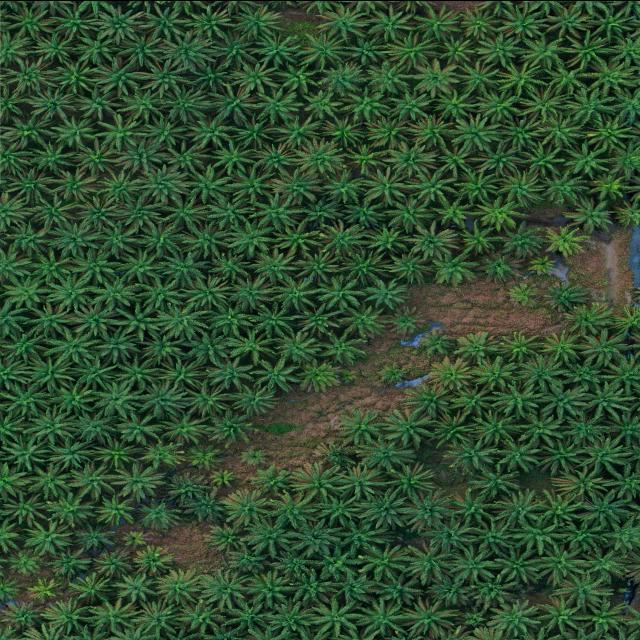Kelapa_Sawit: (290, 461, 346, 500), (163, 33, 216, 69), (562, 32, 614, 68), (384, 410, 436, 446), (467, 464, 522, 498), (200, 570, 250, 607), (360, 491, 410, 527), (403, 600, 452, 636), (115, 464, 165, 499), (410, 61, 460, 95), (294, 140, 344, 174), (159, 87, 211, 119), (586, 6, 632, 42), (47, 329, 97, 362), (136, 276, 184, 310), (158, 305, 206, 339), (24, 520, 72, 554), (248, 570, 293, 606), (30, 408, 76, 443), (92, 278, 142, 310), (564, 302, 614, 334), (360, 440, 413, 470), (569, 88, 613, 124), (116, 304, 160, 340), (230, 276, 274, 312), (227, 332, 276, 364), (554, 468, 610, 496), (50, 222, 96, 256), (92, 328, 138, 362), (135, 602, 181, 636), (222, 489, 268, 523), (207, 196, 255, 228), (292, 520, 340, 552), (522, 34, 567, 68), (452, 116, 497, 150), (272, 276, 317, 310), (247, 518, 292, 552), (296, 360, 342, 393), (368, 60, 410, 96), (6, 436, 48, 472), (341, 90, 388, 122), (46, 602, 93, 634), (140, 62, 190, 92), (492, 601, 542, 631), (447, 438, 497, 468), (322, 222, 366, 256), (275, 222, 319, 256), (165, 472, 209, 506), (357, 600, 402, 633), (72, 465, 112, 502), (407, 544, 448, 580), (498, 64, 544, 96), (206, 304, 252, 336), (313, 546, 359, 578), (495, 550, 541, 582), (584, 492, 630, 524), (4, 492, 46, 527), (183, 333, 230, 364), (256, 89, 300, 122), (28, 465, 72, 498), (388, 36, 436, 66), (544, 7, 592, 37), (343, 250, 388, 282), (48, 277, 96, 307), (74, 304, 119, 336), (274, 332, 322, 362), (48, 496, 96, 526), (176, 602, 224, 632), (562, 576, 610, 606), (338, 406, 379, 441), (590, 61, 632, 95), (524, 88, 566, 122), (412, 224, 454, 258), (432, 413, 474, 447), (452, 384, 494, 418), (184, 276, 230, 307), (362, 278, 408, 309), (387, 465, 433, 496), (212, 142, 256, 174), (368, 171, 412, 203), (256, 196, 300, 228), (141, 166, 185, 198), (27, 306, 71, 338), (251, 304, 295, 336), (318, 277, 362, 309), (141, 384, 185, 416), (342, 466, 386, 498), (322, 62, 364, 95), (582, 439, 624, 472), (274, 172, 320, 202), (233, 384, 279, 414), (73, 412, 119, 442), (136, 498, 182, 528), (540, 600, 586, 630), (496, 384, 542, 414), (225, 600, 268, 632), (316, 494, 359, 526), (568, 201, 612, 232), (458, 62, 498, 96), (270, 604, 310, 638), (540, 548, 580, 582), (388, 144, 433, 174), (416, 7, 458, 39), (117, 142, 165, 170), (159, 570, 201, 602), (91, 602, 139, 630), (207, 522, 249, 554), (268, 496, 316, 524), (206, 359, 252, 388), (374, 575, 420, 604), (497, 492, 540, 523), (604, 464, 640, 501), (188, 8, 232, 38), (53, 118, 97, 148), (77, 198, 121, 228), (10, 170, 54, 200), (30, 358, 74, 388), (141, 332, 185, 362), (297, 304, 341, 334), (322, 332, 366, 362), (362, 546, 406, 576), (582, 601, 626, 631), (428, 577, 472, 607), (540, 386, 584, 416), (499, 8, 546, 36), (253, 360, 300, 388), (302, 34, 343, 66), (1, 332, 46, 361), (478, 89, 520, 120), (54, 169, 96, 200), (228, 226, 276, 253), (406, 387, 454, 414), (233, 62, 276, 92), (233, 120, 276, 150), (388, 200, 431, 230), (161, 252, 207, 280), (544, 282, 590, 310), (184, 384, 230, 412), (514, 522, 560, 550), (314, 602, 354, 634), (582, 550, 622, 582), (185, 171, 229, 200), (6, 386, 50, 415), (470, 358, 514, 387), (584, 332, 625, 363), (237, 7, 279, 37), (478, 35, 520, 65), (278, 62, 320, 92), (74, 144, 119, 172), (190, 118, 232, 148), (566, 148, 608, 178), (412, 172, 454, 202), (434, 253, 476, 283), (164, 198, 206, 228), (117, 252, 159, 282), (52, 438, 94, 468), (31, 252, 70, 284), (453, 548, 492, 580), (119, 413, 162, 442), (156, 361, 202, 388), (208, 414, 254, 441), (122, 89, 162, 120), (254, 35, 298, 63), (388, 93, 432, 121), (586, 120, 630, 148), (388, 254, 432, 282), (53, 386, 97, 414), (113, 572, 157, 600), (75, 251, 116, 281), (409, 494, 450, 524), (452, 494, 493, 524), (479, 145, 521, 174), (500, 118, 542, 147), (503, 173, 545, 202), (298, 253, 340, 282), (33, 90, 76, 118), (479, 200, 522, 228), (546, 66, 586, 96), (436, 91, 476, 121), (410, 117, 450, 147), (500, 442, 540, 472), (500, 330, 540, 360), (562, 360, 602, 390), (518, 415, 558, 445), (182, 228, 228, 254), (339, 307, 385, 333), (342, 522, 388, 548), (539, 442, 580, 471), (544, 228, 588, 255), (136, 225, 180, 252), (5, 276, 42, 308), (190, 490, 227, 522), (9, 8, 51, 36), (144, 118, 186, 146), (166, 144, 208, 172), (542, 118, 584, 146), (456, 172, 498, 200), (98, 172, 140, 200), (33, 200, 75, 228), (97, 384, 139, 412), (562, 522, 604, 550), (96, 120, 143, 145), (5, 116, 50, 142), (522, 146, 561, 176), (115, 359, 155, 388), (543, 490, 579, 522), (517, 361, 563, 386), (70, 574, 111, 602), (544, 174, 588, 200), (367, 227, 411, 253), (72, 523, 116, 549), (428, 520, 472, 546), (100, 8, 138, 38), (214, 89, 252, 119), (12, 224, 50, 254), (475, 522, 513, 552), (98, 63, 140, 90), (432, 198, 474, 225), (92, 439, 134, 466), (250, 465, 292, 492), (324, 9, 364, 37), (480, 252, 520, 280), (458, 226, 498, 254), (119, 198, 159, 226), (91, 548, 131, 576), (333, 573, 373, 601), (74, 358, 110, 389), (432, 358, 469, 388), (455, 331, 496, 358), (30, 146, 76, 170), (56, 8, 95, 36), (33, 34, 75, 60), (304, 200, 343, 228), (292, 576, 334, 602), (475, 578, 514, 606), (476, 415, 518, 441), (0, 356, 32, 390), (324, 117, 364, 144), (136, 545, 172, 575), (278, 549, 318, 576), (98, 496, 135, 525), (215, 38, 256, 64), (146, 8, 184, 36), (80, 90, 118, 118), (257, 144, 295, 172), (326, 174, 364, 202), (6, 602, 44, 630), (588, 386, 626, 414), (562, 416, 606, 440), (314, 441, 356, 466), (460, 8, 496, 37), (232, 172, 272, 198), (212, 252, 252, 278), (51, 548, 91, 574), (544, 334, 583, 360), (304, 90, 340, 118), (371, 118, 407, 146), (348, 198, 384, 226), (388, 306, 424, 334), (8, 547, 44, 575), (11, 61, 48, 88), (436, 147, 474, 173), (506, 226, 540, 255), (258, 253, 294, 280), (0, 193, 26, 230), (0, 463, 28, 497), (57, 65, 95, 90), (78, 36, 116, 61), (127, 36, 163, 62), (280, 120, 316, 146), (347, 146, 383, 172), (165, 416, 204, 440), (229, 548, 268, 572), (611, 33, 640, 65), (1, 142, 30, 174), (374, 11, 408, 38), (193, 62, 227, 89), (591, 173, 625, 200), (98, 228, 136, 252), (439, 38, 475, 63), (612, 356, 640, 388), (27, 577, 65, 600), (613, 413, 640, 445), (0, 247, 26, 280), (185, 445, 222, 468), (610, 147, 640, 175), (610, 520, 640, 548), (420, 330, 454, 354), (351, 38, 383, 63), (508, 282, 540, 306), (0, 35, 27, 63), (0, 90, 26, 118), (614, 306, 640, 334), (0, 306, 23, 337), (0, 517, 19, 553), (618, 89, 640, 120), (145, 444, 179, 464), (615, 199, 640, 226), (528, 254, 557, 276), (1, 412, 24, 439), (120, 528, 152, 546), (202, 628, 248, 640), (380, 364, 408, 382), (240, 446, 268, 464), (458, 608, 486, 626), (0, 575, 18, 600), (210, 470, 234, 486), (342, 369, 358, 383)
